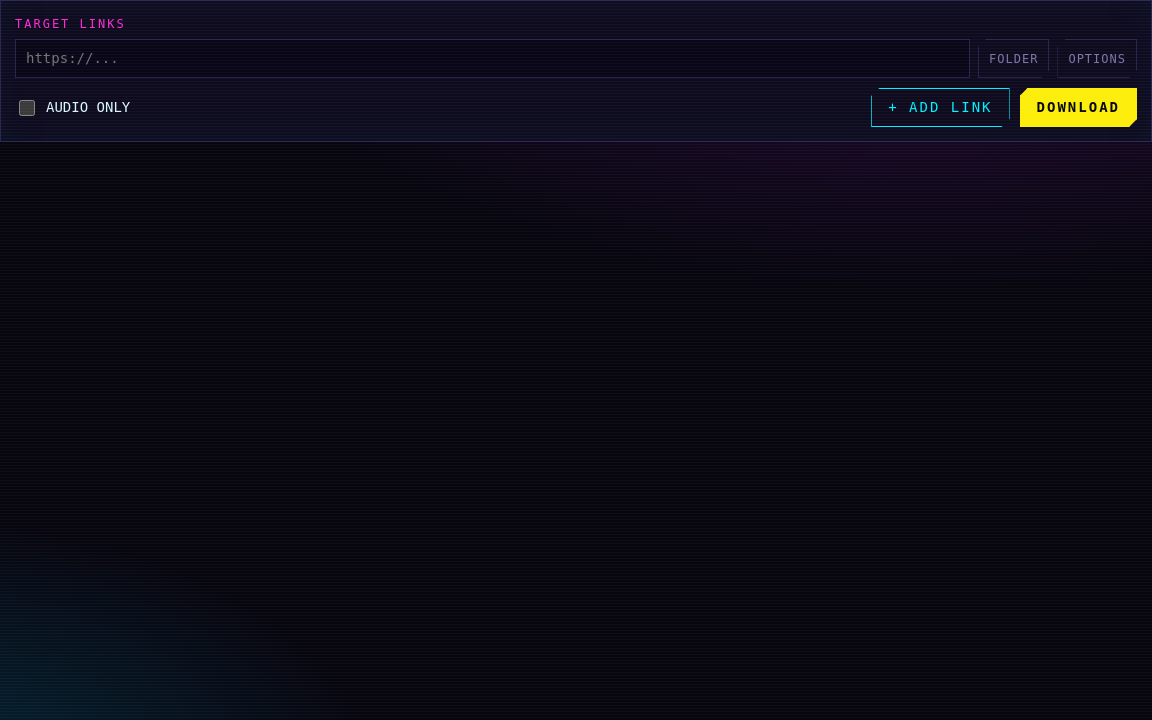
UrlInput folder for one link › keeps the folder on a link that failed so it can be corrected and sent again
Type "nope" into the field with placeholder "https://..." at (493, 58), box x1=15 y1=39 x2=970 y2=78
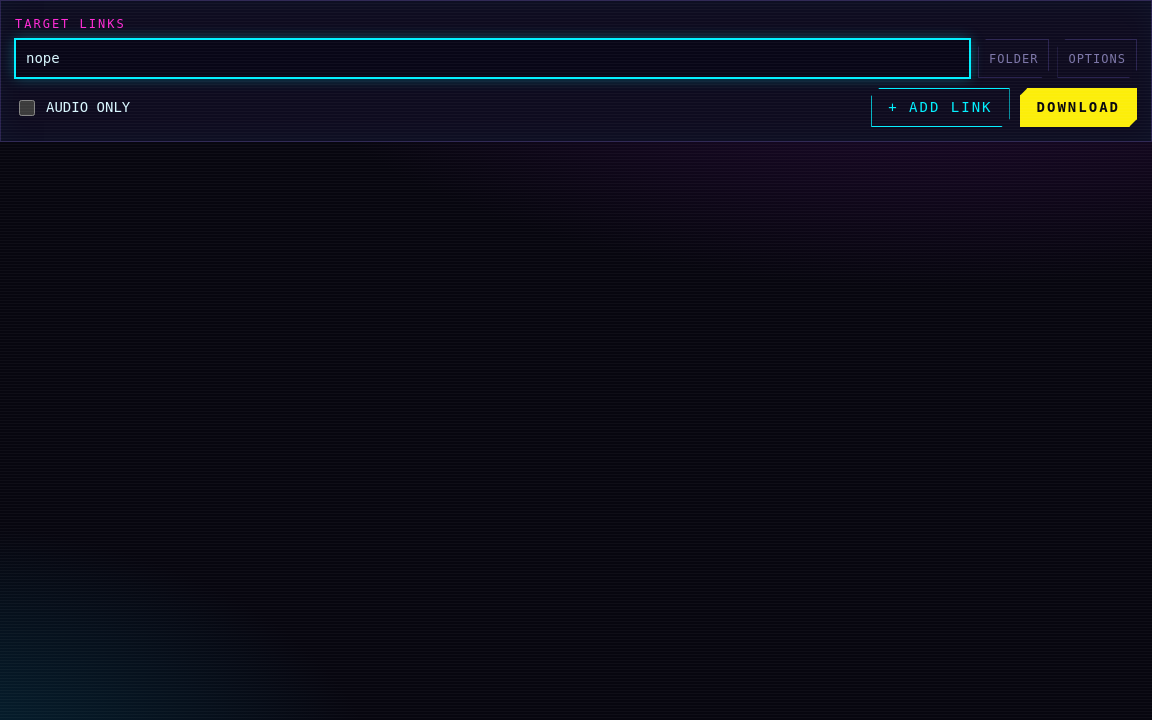
Click the button with aria-label "Choose folder for link 1" at (1014, 58), box x1=978 y1=39 x2=1050 y2=78
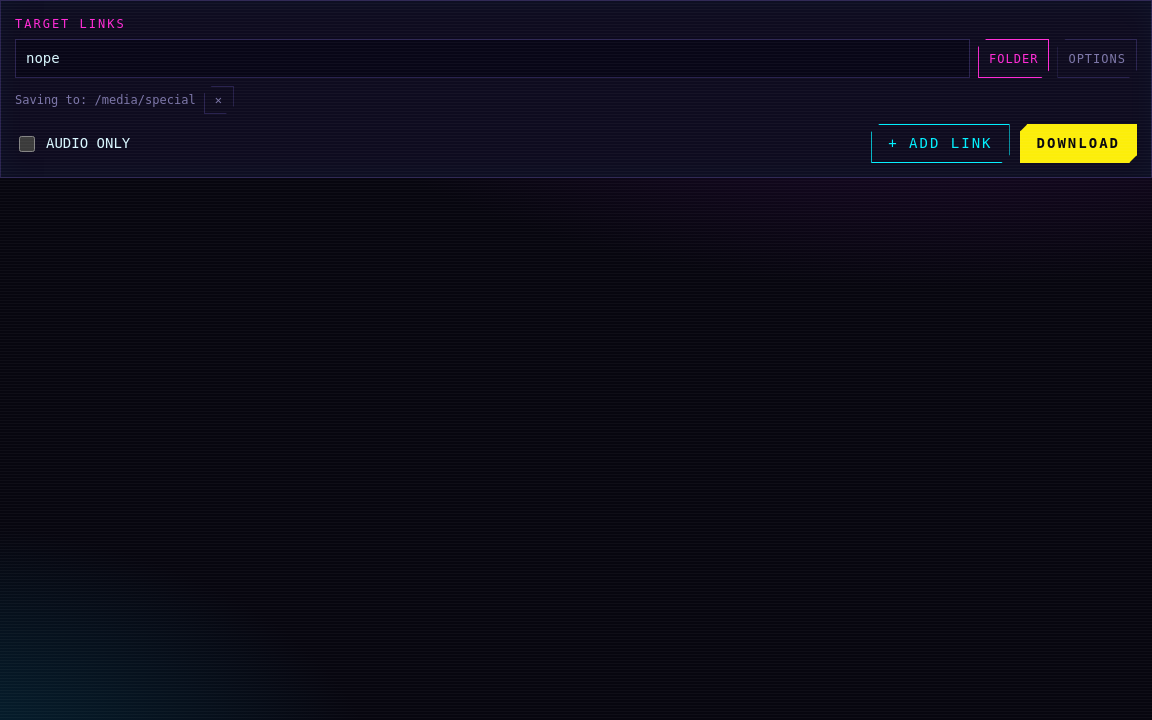
Now the text "Saving to: /media/special" is shown, box x1=15 y1=91 x2=196 y2=109
Click the button "DOWNLOAD" at (1078, 144), box x1=1020 y1=124 x2=1137 y2=163
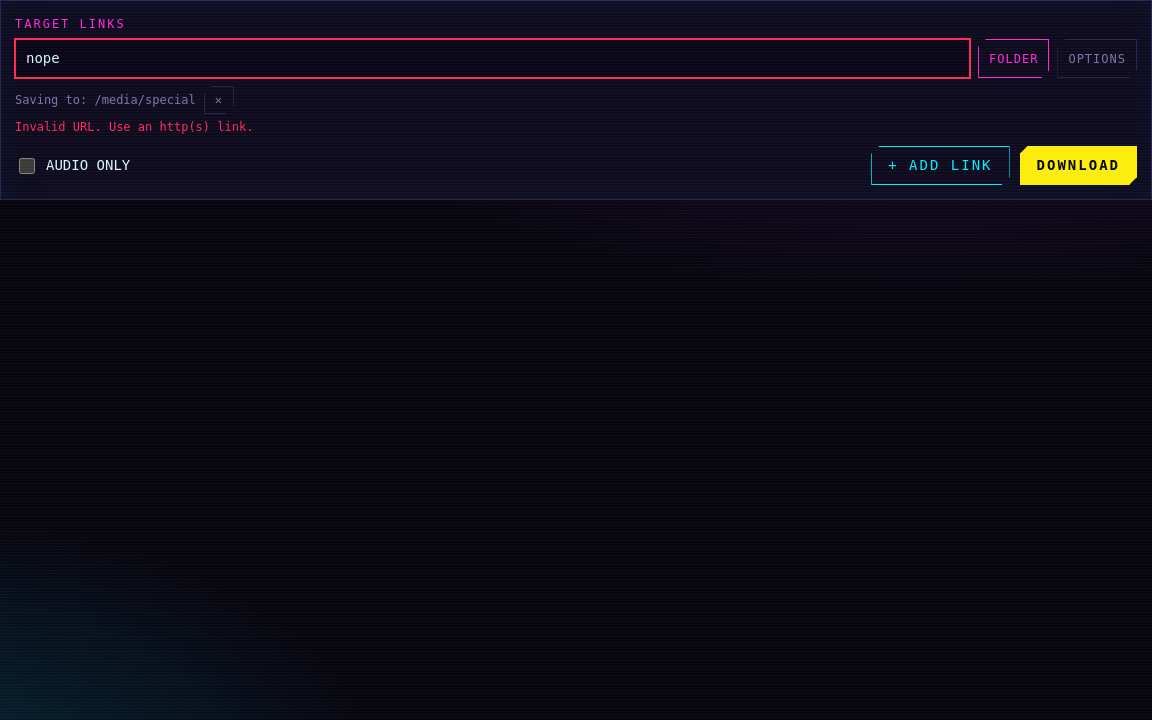
Now the text "Saving to: /media/special" is shown, box x1=15 y1=91 x2=196 y2=109
Now the text "Invalid URL. Use an http(s) link." is shown, box x1=15 y1=120 x2=253 y2=134
